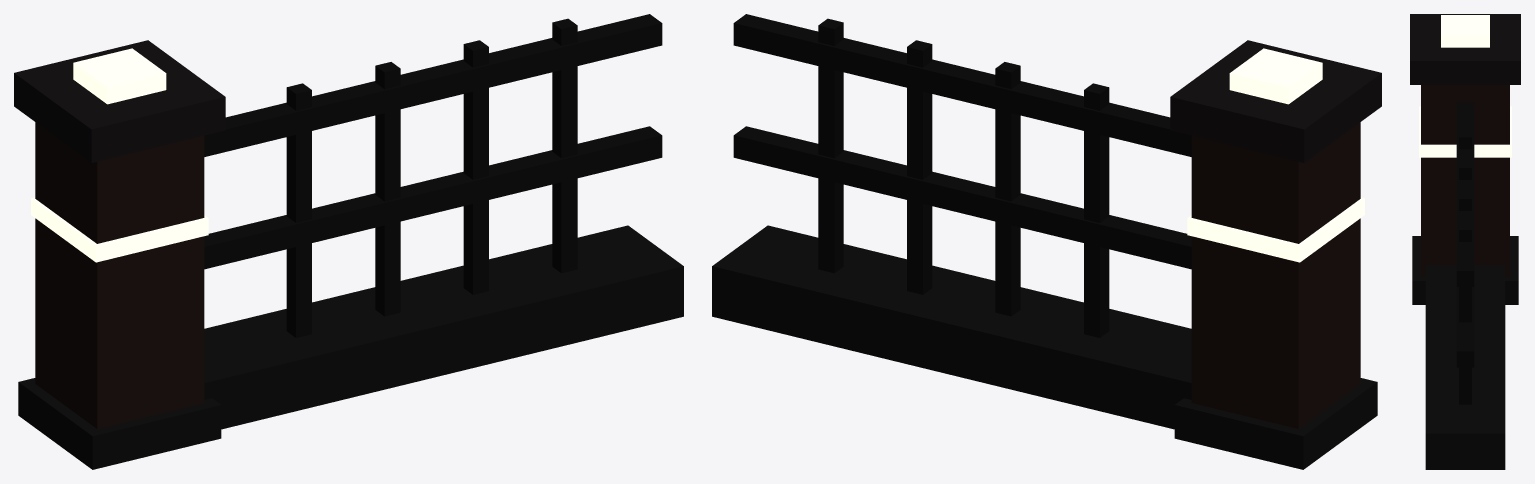
Rendered from fence_2m.glb.
The picture shows the model from 3 angles, left to right: view 1: azimuth 30°, elevation 25°; view 2: azimuth 150°, elevation 25°; view 3: azimuth 270°, elevation 25°; orthographic projection. The views are drawn at different scales.
Parts seen in each view (by area): view 1: fence_2m; view 2: fence_2m; view 3: fence_2m.
Boxes of the visible parts, left/top/right/bottom form: fence_2m: left=14, top=14, right=683, bottom=469; fence_2m: left=712, top=14, right=1381, bottom=469; fence_2m: left=1410, top=14, right=1520, bottom=469.
Size of the model in its own units: 2.25 by 1.28 by 0.5.
